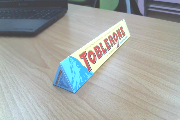Chocolate: (40, 12, 140, 99)
